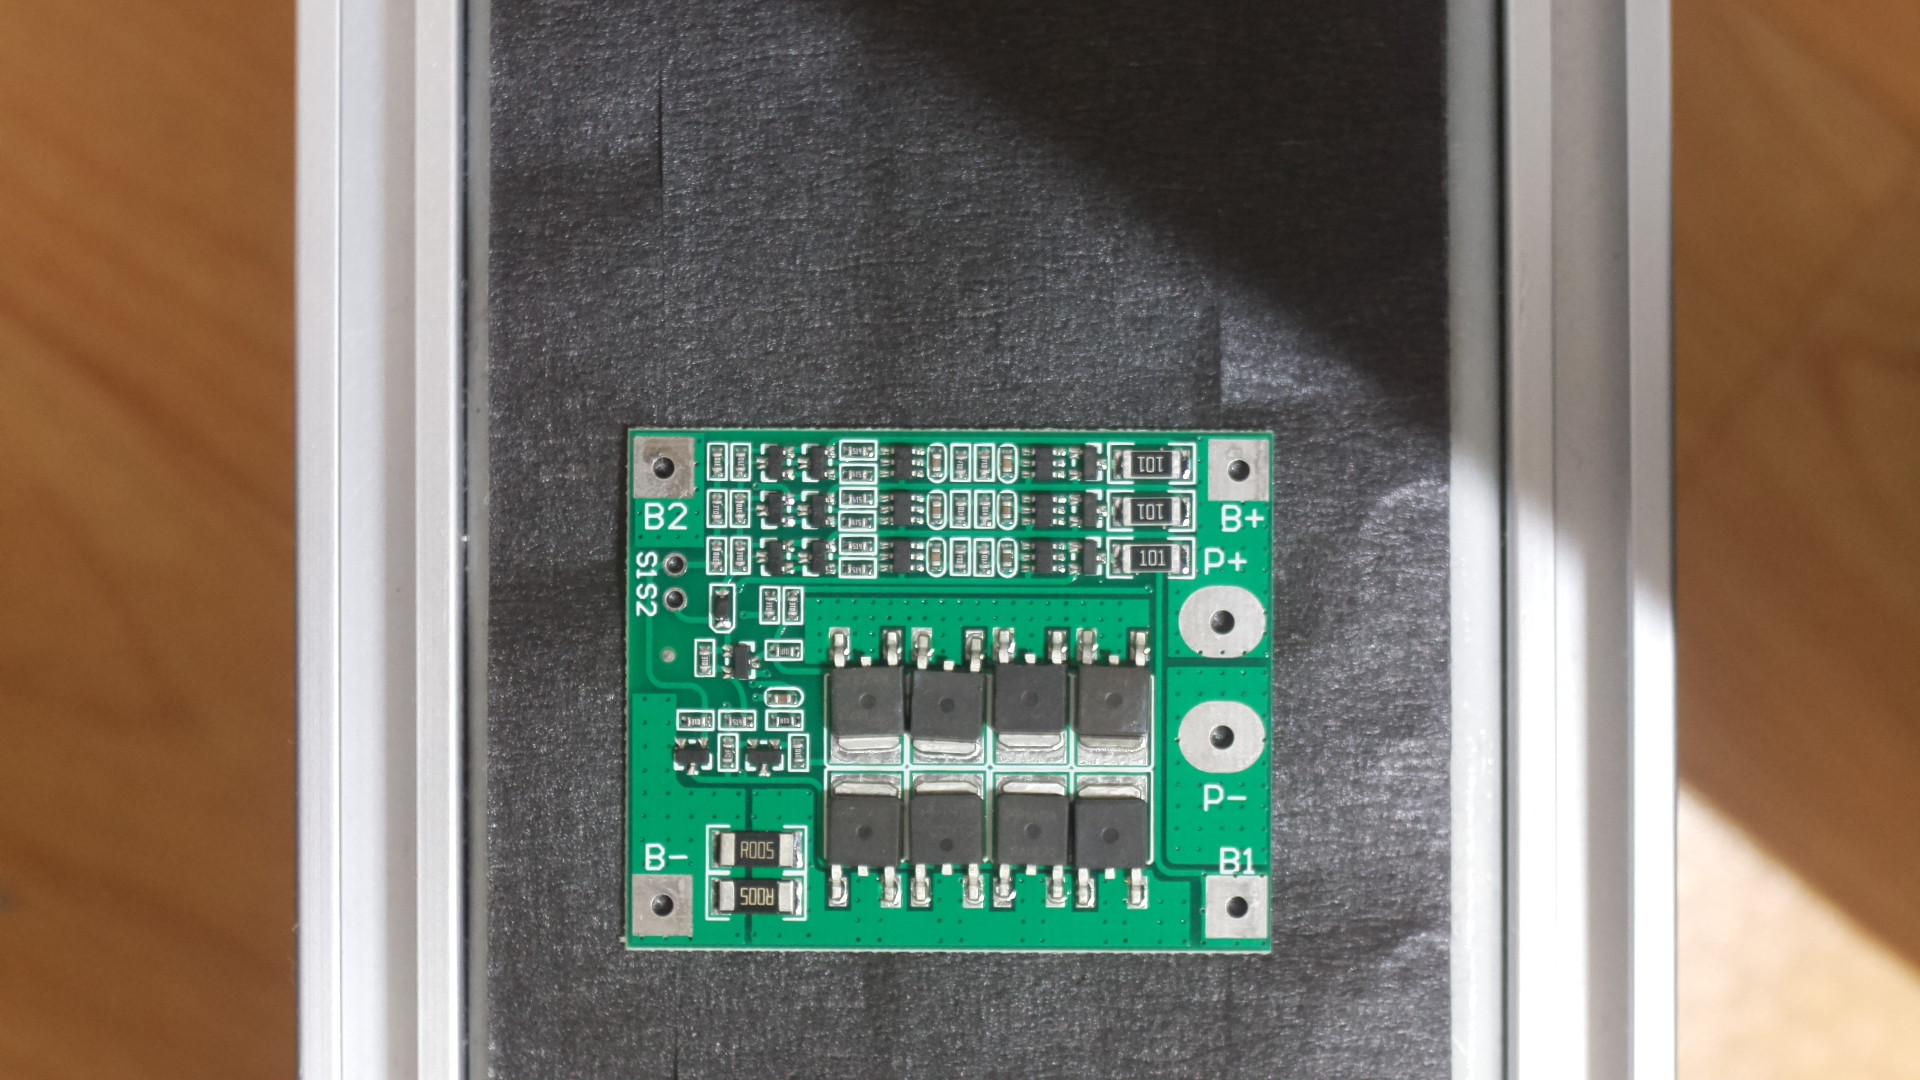C_Normal: (617, 422, 1294, 973)
